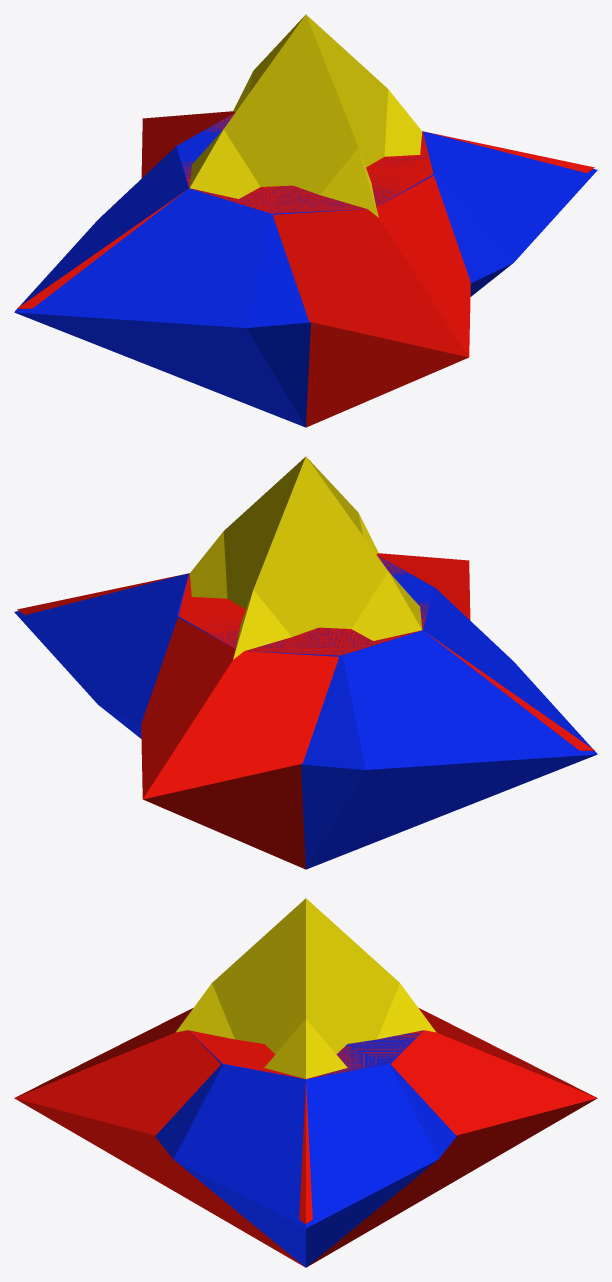
Rendered from Gem.fbx.
3 renders of one model, top to bottom at view 1: azimuth 30°, elevation 25°; view 2: azimuth 150°, elevation 25°; view 3: azimuth 270°, elevation 25°, orthographic. The views are drawn at different scales.
Parts seen in each view (by area): view 1: Medium, Large, Super; view 2: Medium, Large, Super; view 3: Large, Medium, Super.
Boxes of the visible parts, x1,y1,x2,y2 form: Medium: [14, 113, 597, 427]; Large: [17, 111, 594, 427]; Super: [189, 14, 422, 217]; Medium: [14, 555, 597, 869]; Large: [17, 553, 594, 869]; Super: [189, 456, 422, 659]; Large: [14, 1008, 597, 1266]; Medium: [155, 1030, 456, 1267]; Super: [175, 898, 436, 1078].
Bounding box in the file's own units: 141 × 95.16 × 136.
